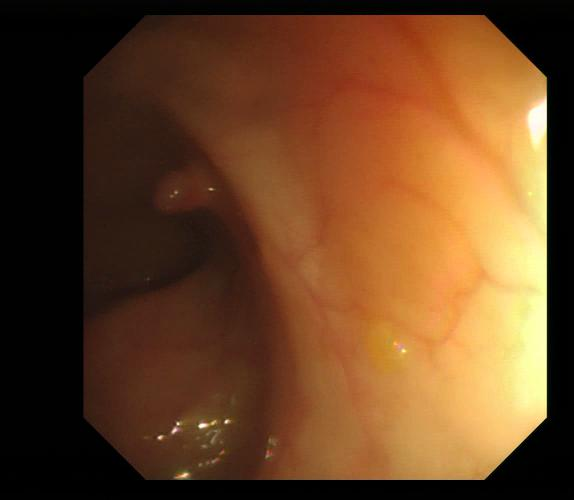polyp: (151, 160, 216, 216)
